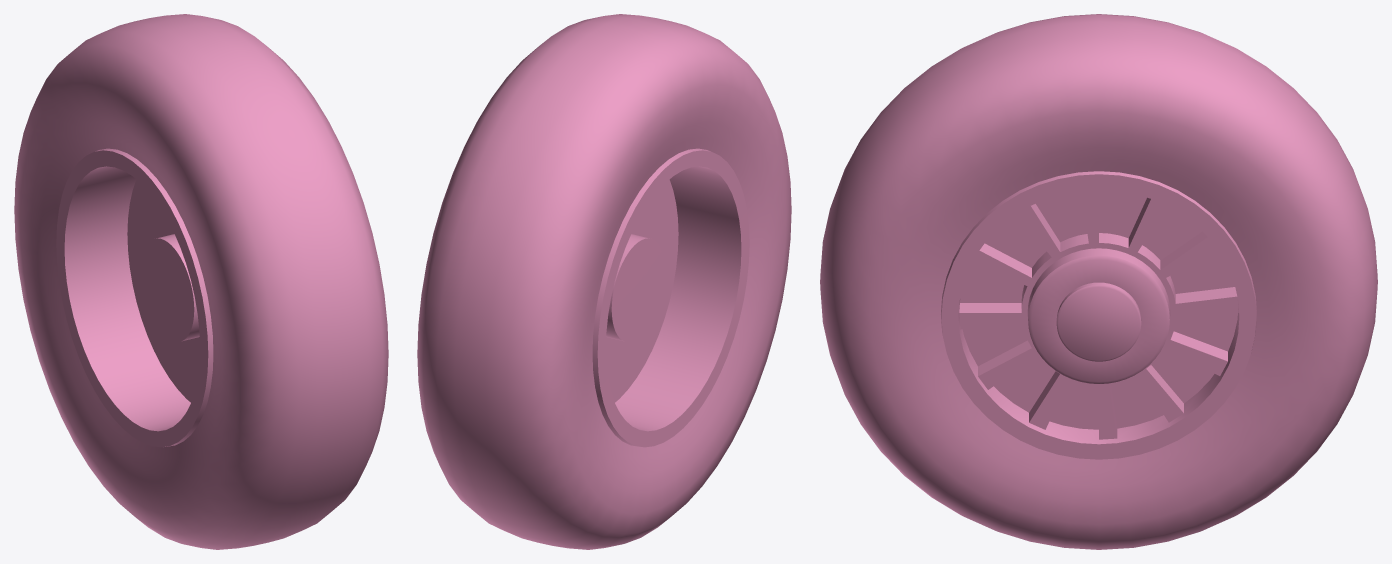
The model's file is FrontWheel.fbx.
The picture shows the model from 3 angles, left to right: view 1: azimuth 30°, elevation 25°; view 2: azimuth 150°, elevation 25°; view 3: azimuth 270°, elevation 25°; orthographic projection. The views are drawn at different scales.
Parts seen in each view (by area): view 1: FrontWheel; view 2: FrontWheel; view 3: FrontWheel.
Part boxes in pixels (box(x1,y1,x2,y2)): FrontWheel: box(14, 14, 388, 549); FrontWheel: box(417, 14, 791, 549); FrontWheel: box(820, 14, 1377, 549).
Size of the model in its own units: 15.48 by 46.76 by 46.76.
